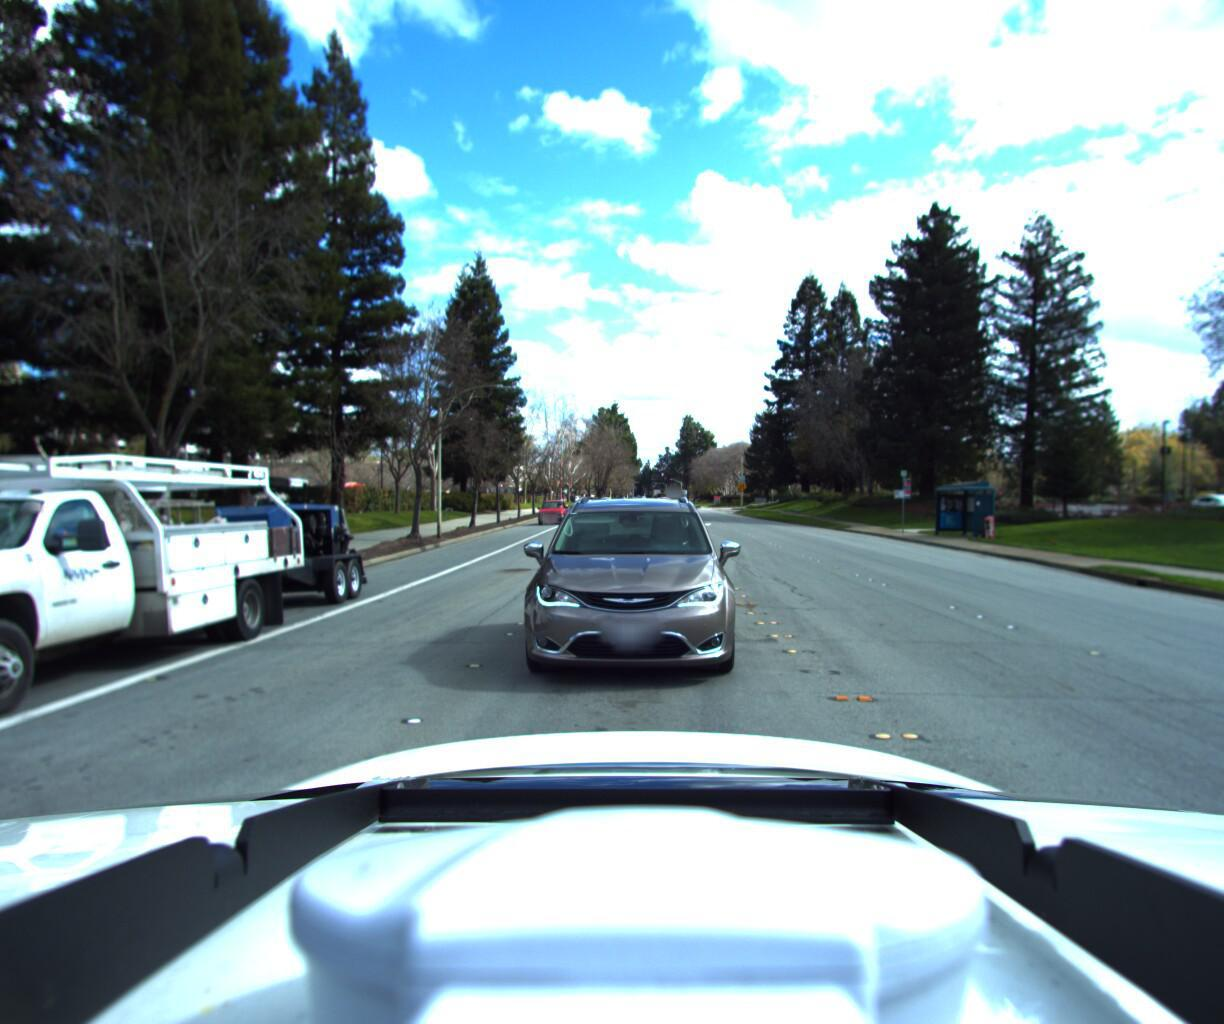car: (514, 466, 756, 688), (534, 507, 572, 532)
